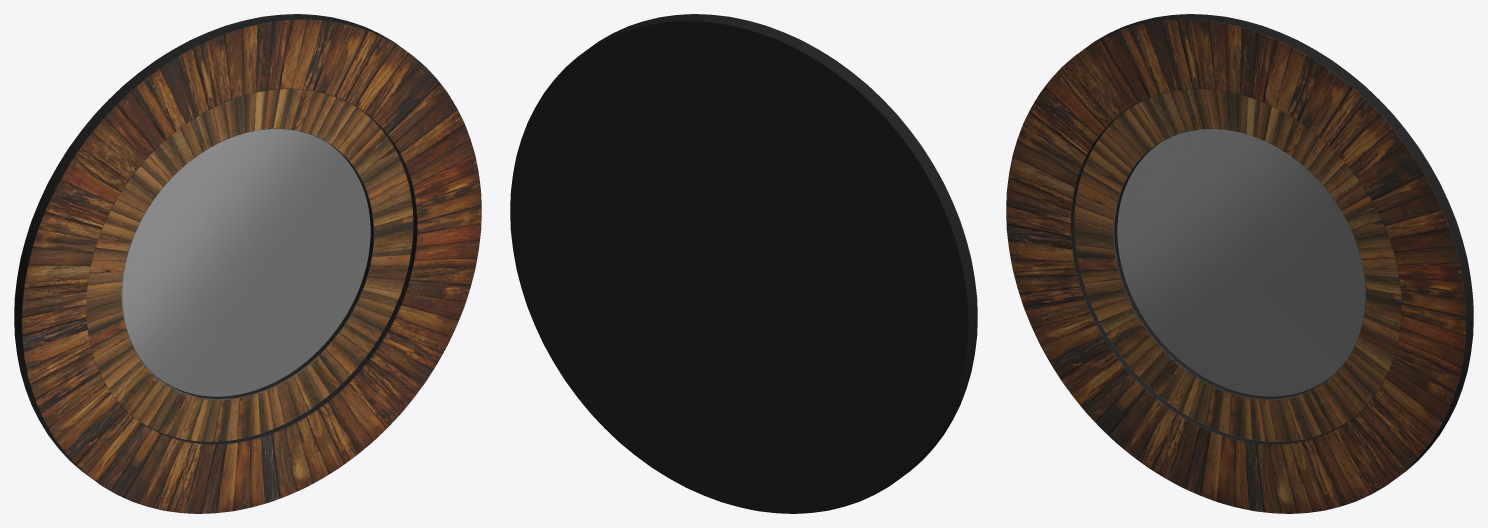
Rendered from mirror_B071HBC338.glb.
The picture shows the model from 3 angles, left to right: view 1: azimuth 30°, elevation 25°; view 2: azimuth 150°, elevation 25°; view 3: azimuth 330°, elevation 25°; orthographic projection.
Visible parts, largest first — view 1: RootNode; view 2: RootNode; view 3: RootNode.
Part boxes in pixels (x1,y1,x2,y2): RootNode: [14, 14, 481, 513]; RootNode: [510, 14, 977, 513]; RootNode: [1006, 14, 1473, 513].
Size of the model in its own units: 1.08 by 1.08 by 0.0363.
1 material, 1 textured.
